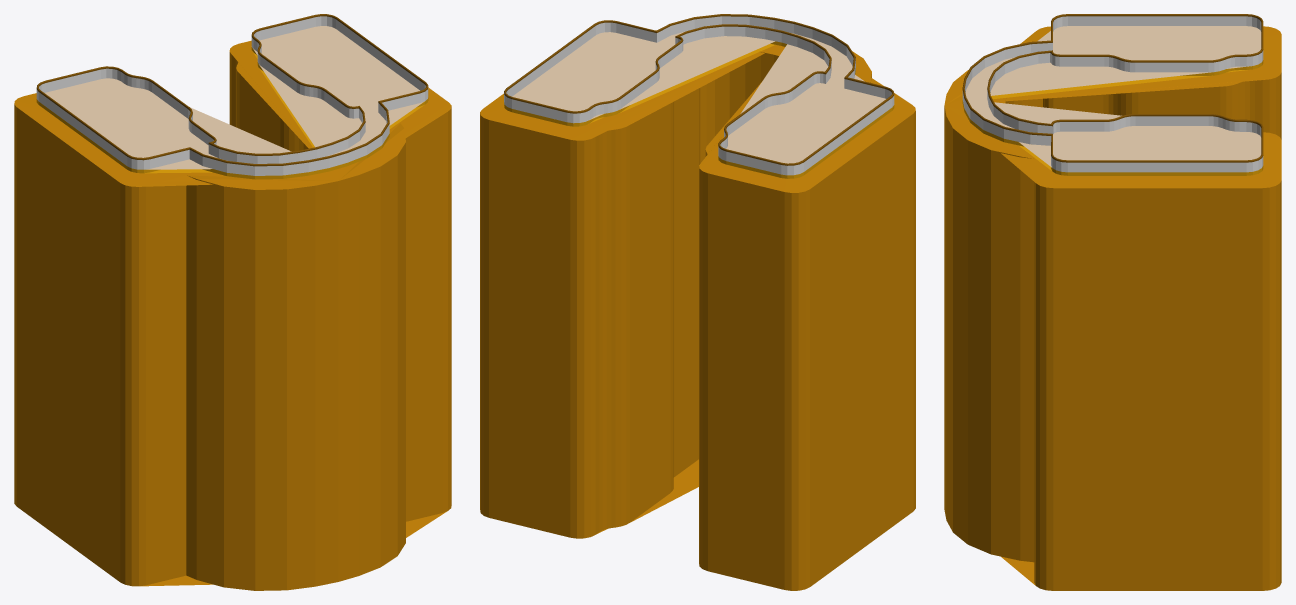
3 views of the same model, side by side, from view 1: azimuth 30°, elevation 25°; view 2: azimuth 150°, elevation 25°; view 3: azimuth 270°, elevation 25° (orthographic).
Visible parts, largest first — view 1: base38, base19, polySurface1153, polySurface122, polySurface1161, polySurface1163, polySurface1155; view 2: base38, base19, polySurface1153, polySurface122, polySurface1161, polySurface1163, polySurface1155; view 3: base38, base19, polySurface1153, polySurface122, polySurface1155, polySurface1163, polySurface1161.
Boxes of the visible parts, <box> form: base38: <box>14,40,451,590</box>; base19: <box>36,26,428,179</box>; polySurface1153: <box>101,30,365,163</box>; polySurface122: <box>36,14,428,166</box>; polySurface1161: <box>185,102,389,175</box>; polySurface1163: <box>36,83,149,169</box>; polySurface1155: <box>316,16,428,102</box>; base38: <box>480,30,915,590</box>; base19: <box>504,31,894,178</box>; polySurface1153: <box>567,26,831,160</box>; polySurface122: <box>504,14,894,165</box>; polySurface1161: <box>651,16,855,89</box>; polySurface1163: <box>781,89,894,175</box>; polySurface1155: <box>504,22,616,108</box>; base38: <box>944,26,1281,590</box>; base19: <box>962,26,1263,175</box>; polySurface1153: <box>987,50,1263,137</box>; polySurface122: <box>962,14,1263,162</box>; polySurface1155: <box>1051,156,1263,172</box>; polySurface1163: <box>1053,16,1261,31</box>; polySurface1161: <box>962,43,1052,145</box>.
Bounding box in the file's own units: 94.27 × 115 × 82.95.
